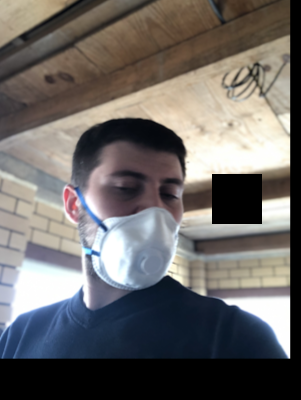with_mask: (87, 162, 184, 287)
